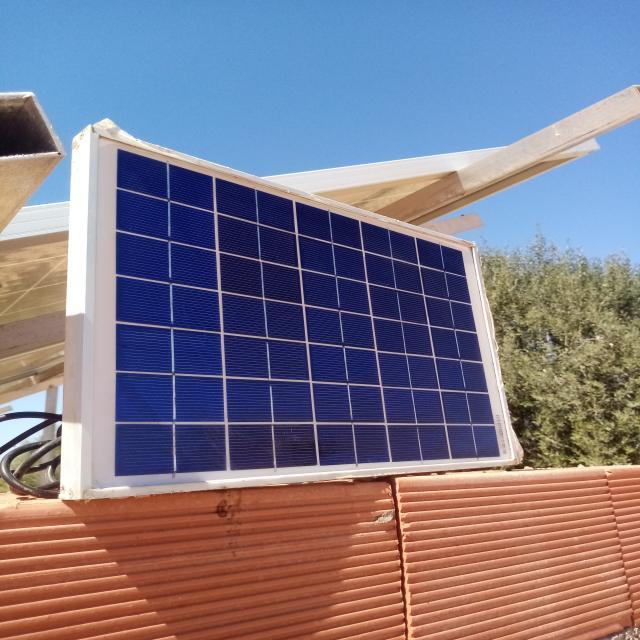no faulty: (84, 130, 518, 495)
